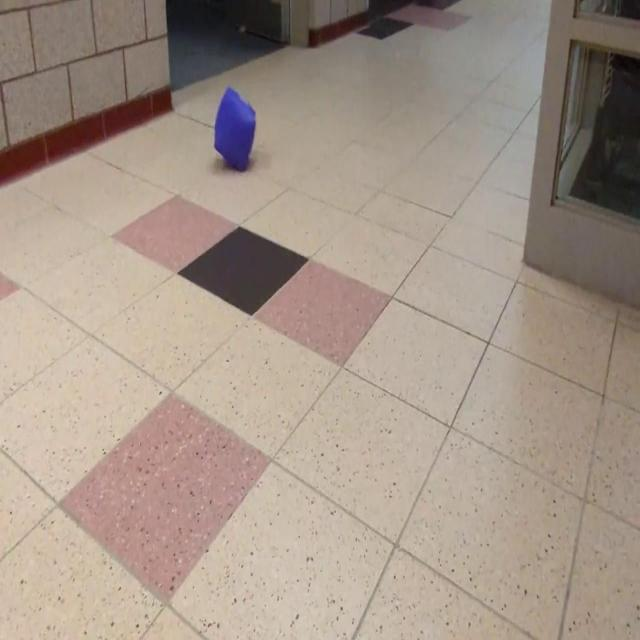frc_cube: (212, 86, 255, 172)
